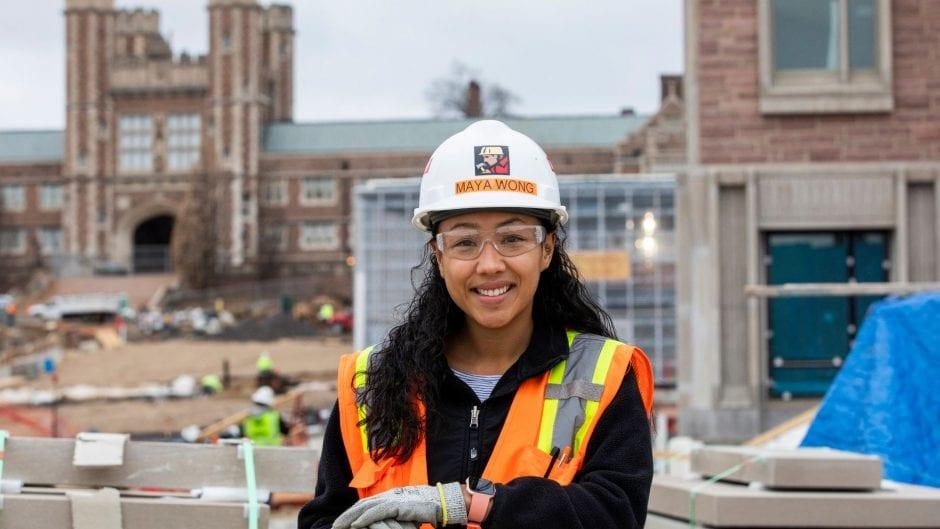helmet: (416, 121, 571, 231)
